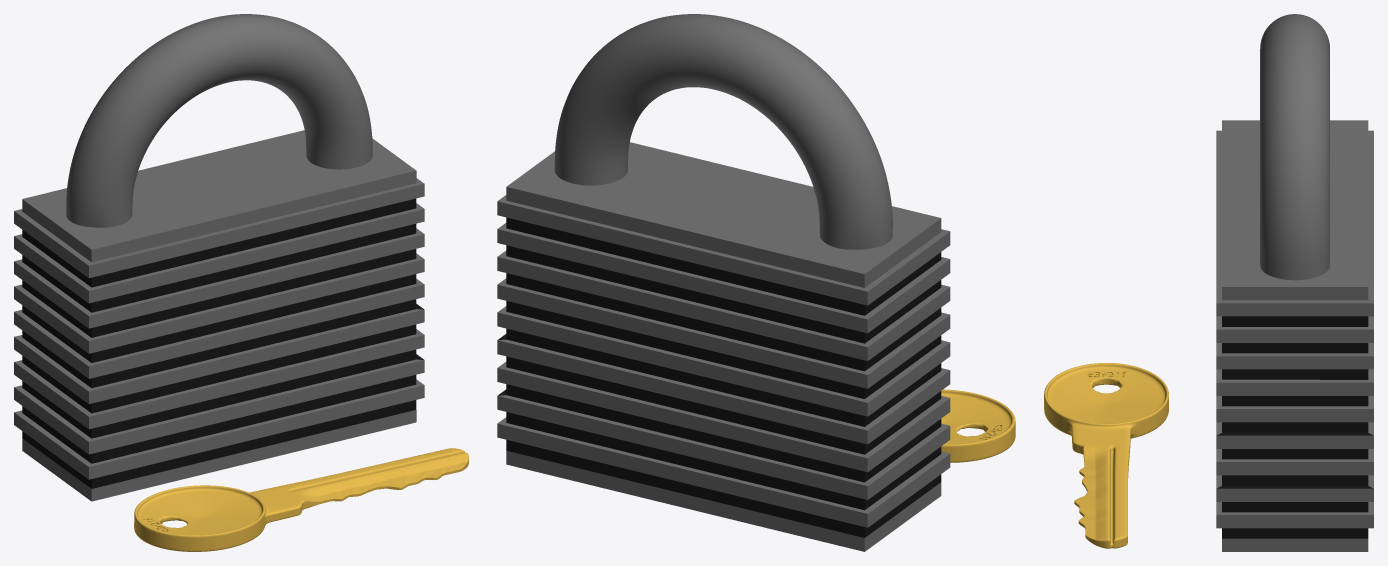
The model's file is key4.glb.
3 views of the same model, side by side, from view 1: azimuth 30°, elevation 25°; view 2: azimuth 150°, elevation 25°; view 3: azimuth 270°, elevation 25° (orthographic). The views are drawn at different scales.
Visible parts, largest first — view 1: Lock, Key; view 2: Lock, Key; view 3: Lock, Key.
Boxes of the visible parts, x1,y1,x2,y2 form: Lock: (14, 14, 424, 501); Key: (134, 448, 468, 551); Lock: (497, 14, 950, 551); Key: (941, 389, 1015, 462); Lock: (1216, 14, 1373, 551); Key: (1044, 363, 1168, 548).
Size of the model in its own units: 2.85 by 3.37 by 2.3.
